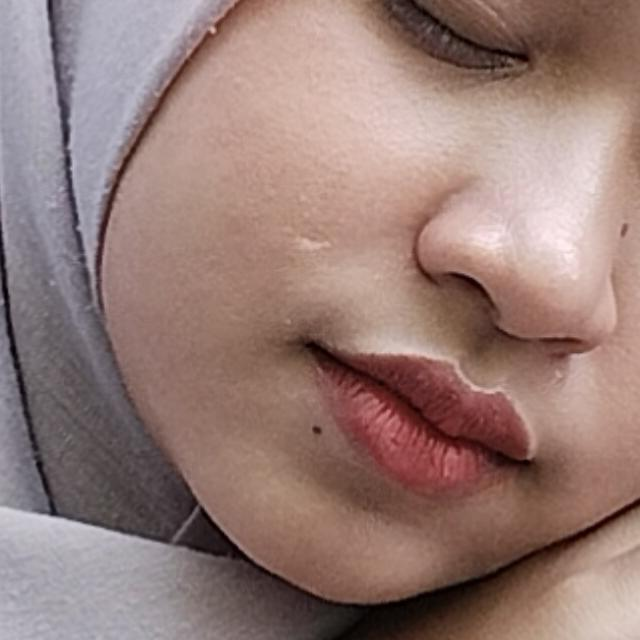tidur: (0, 108, 640, 640)
